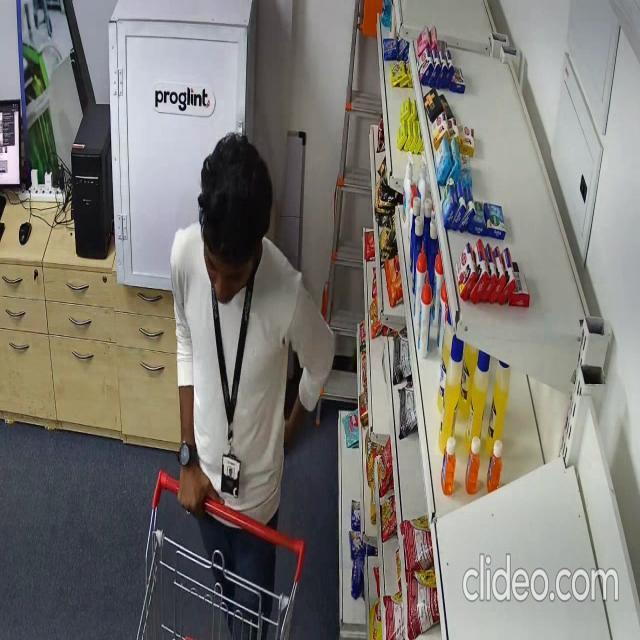Shoplifting: (169, 133, 336, 640)
